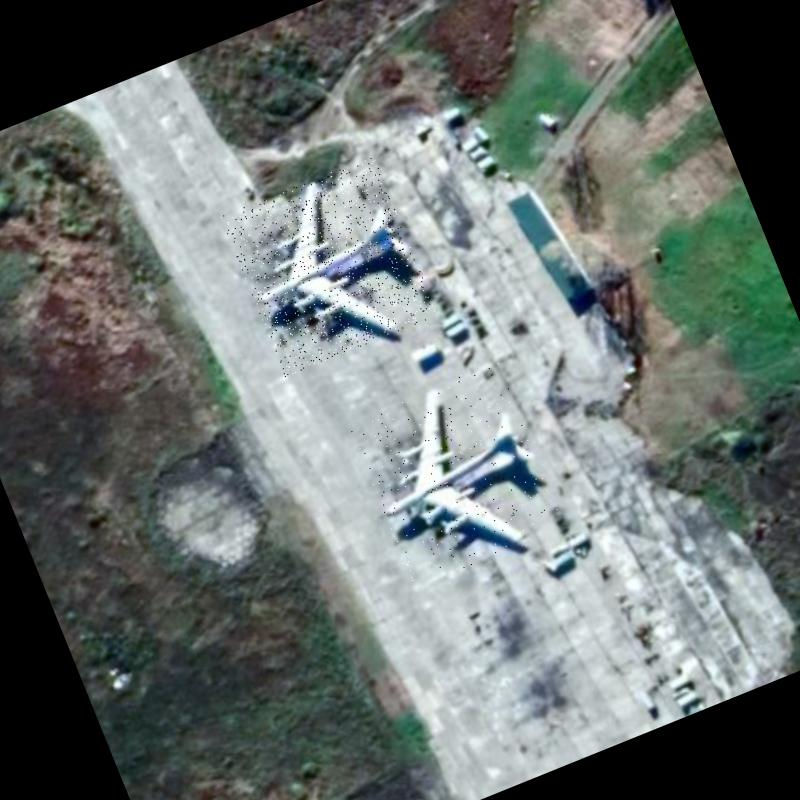A17: (344, 360, 564, 588), (220, 154, 438, 376)
